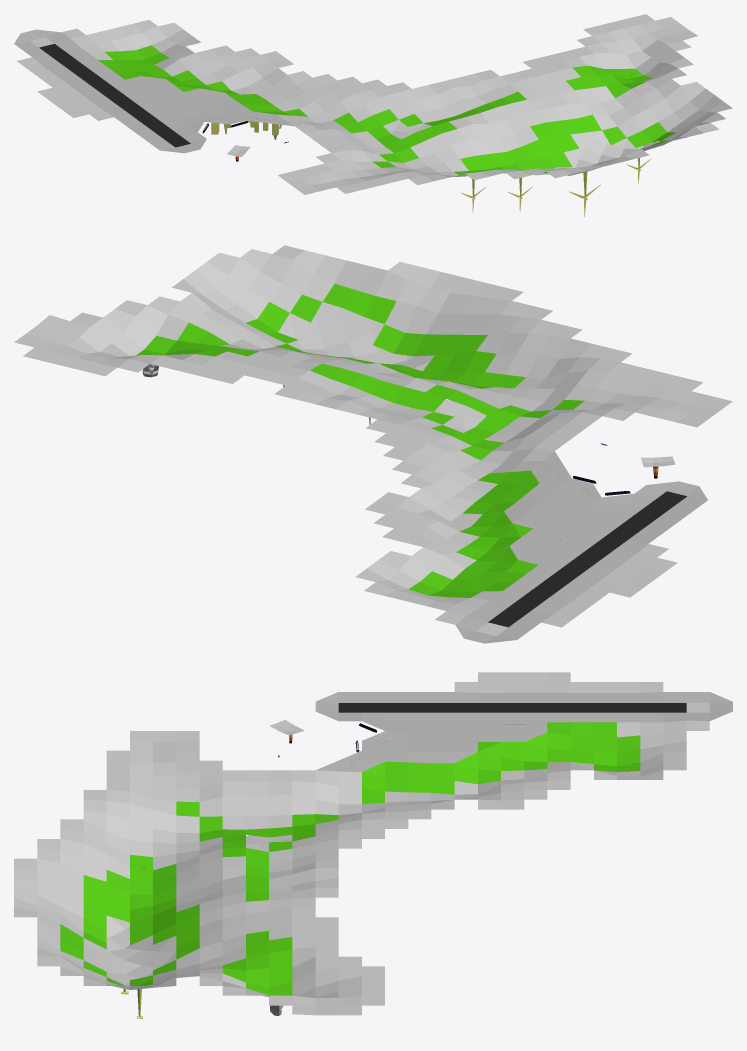
The model's file is island15.obj.
3 renders of one model, top to bottom at view 1: azimuth 30°, elevation 25°; view 2: azimuth 150°, elevation 25°; view 3: azimuth 270°, elevation 25°, orthographic. The views are drawn at different scales.
Visible parts, largest first — view 1: ISLND; view 2: ISLND; view 3: ISLND.
Boxes of the visible parts, left/top/right/bottom form: ISLND: left=14, top=14, right=732, bottom=216; ISLND: left=14, top=245, right=732, bottom=643; ISLND: left=14, top=672, right=732, bottom=1018.
Size of the model in its own units: 3150 by 488 by 2790.
